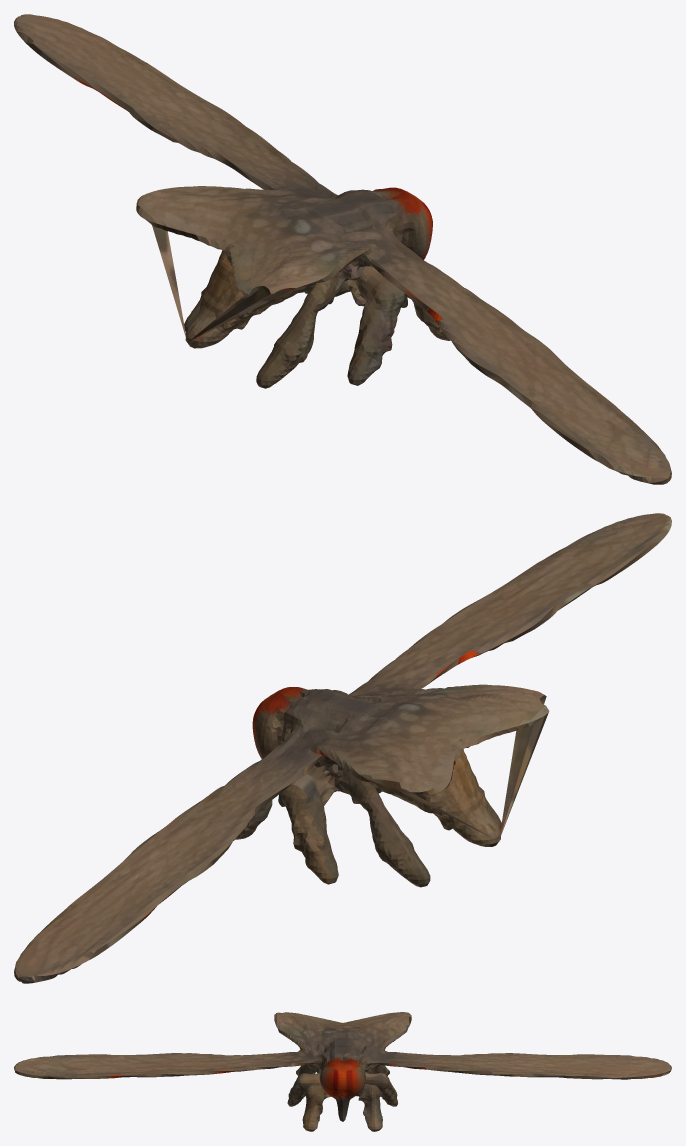
3 renders of one model, top to bottom at view 1: azimuth 30°, elevation 25°; view 2: azimuth 150°, elevation 25°; view 3: azimuth 270°, elevation 25°, orthographic. The views are drawn at different scales.
Parts seen in each view (by area): view 1: Hy21_Mesh.obj; view 2: Hy21_Mesh.obj; view 3: Hy21_Mesh.obj.
Part boxes in pixels (x1,y1,x2,y2): Hy21_Mesh.obj: (14,14,671,484); Hy21_Mesh.obj: (14,513,671,983); Hy21_Mesh.obj: (14,1012,671,1131).
Size of the model in its own units: 0.4283 by 0.2346 by 1.96.
1 material, 1 textured.
